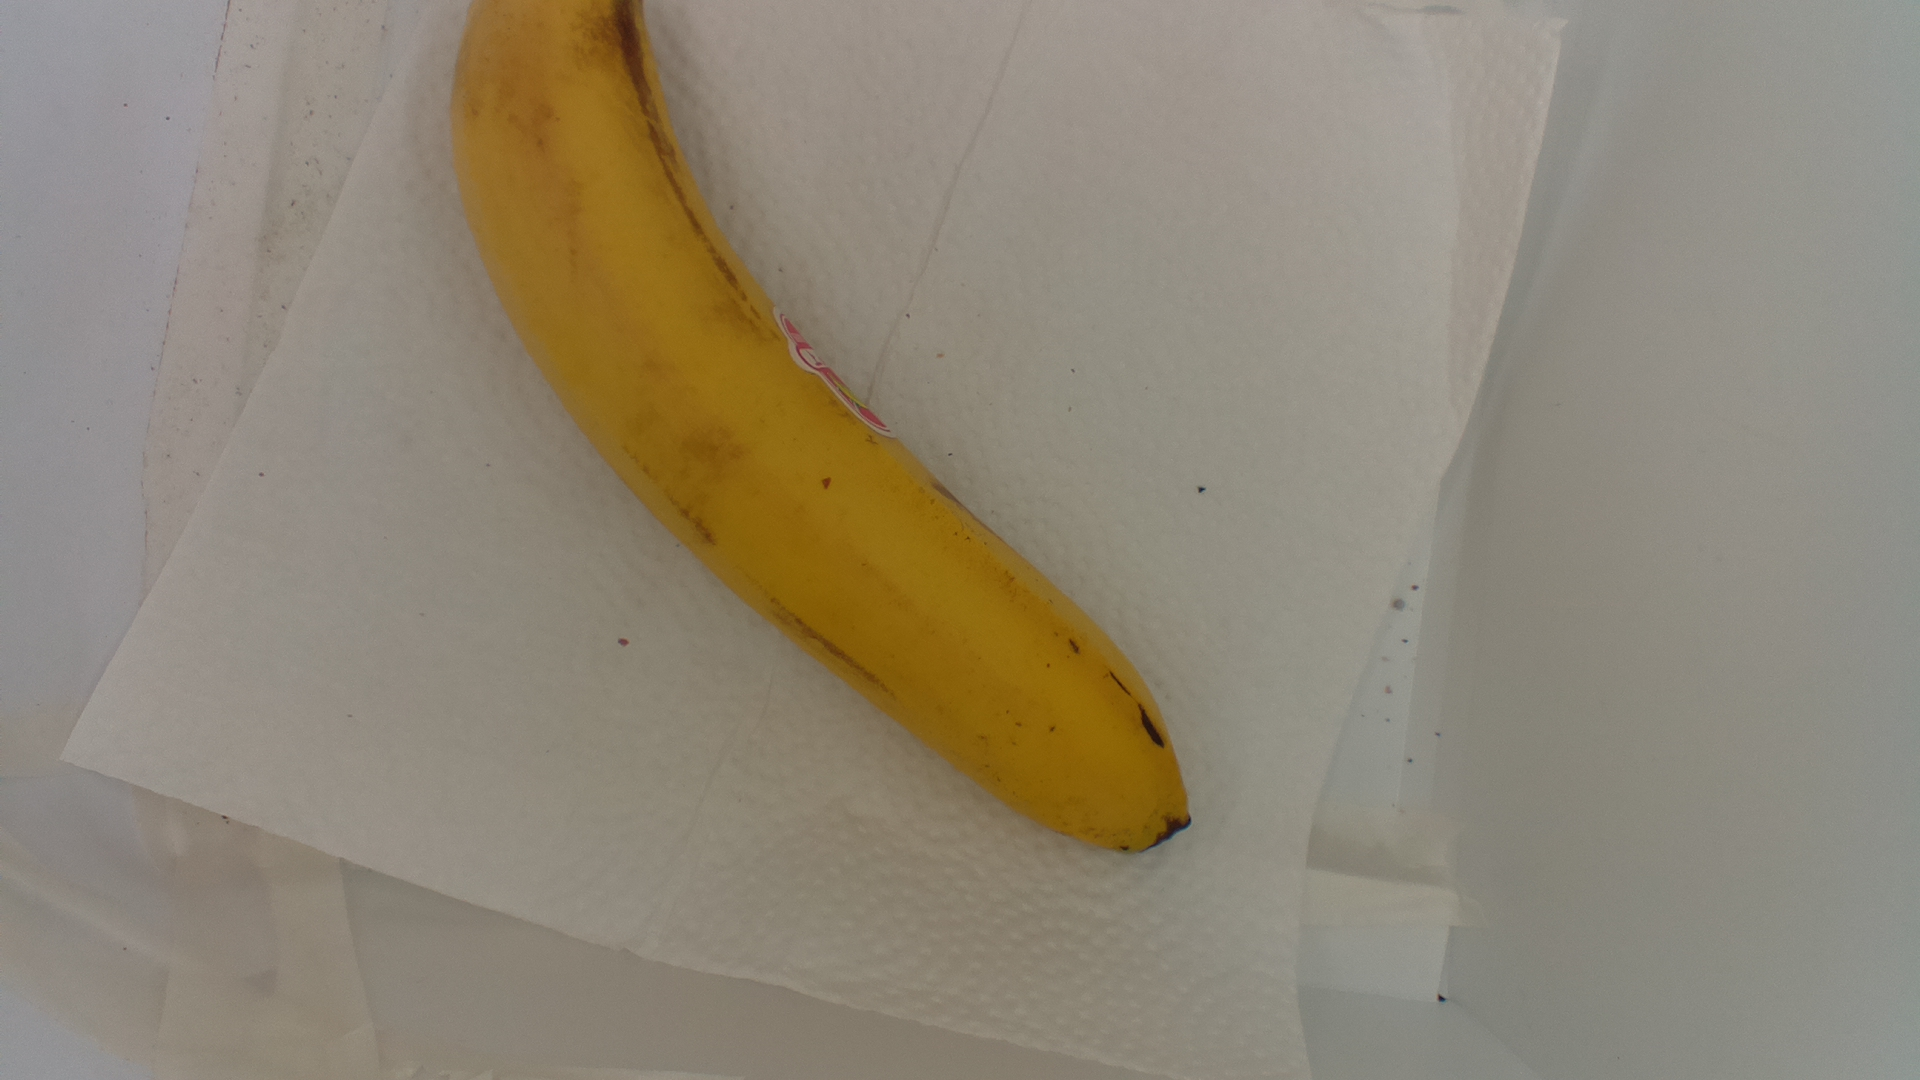fruit: (452, 1, 1191, 876)
